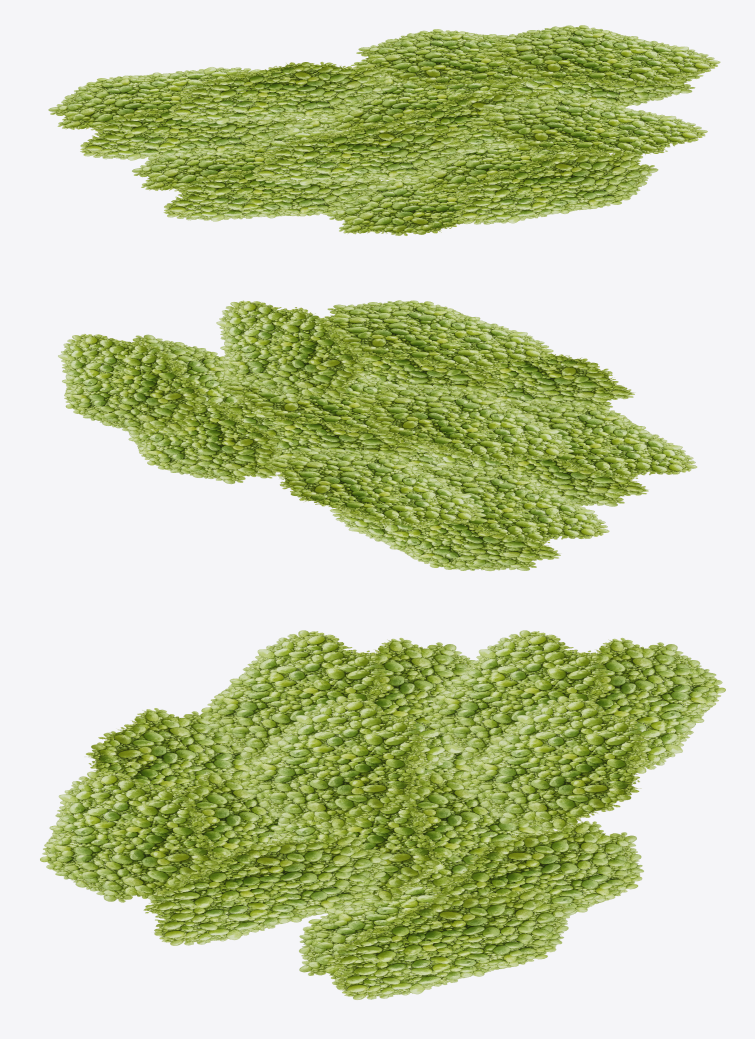
File: Lenteja_de_agua_dispersa_1.glb
3 views of the same model, one above another, from view 1: azimuth 30°, elevation 25°; view 2: azimuth 150°, elevation 25°; view 3: azimuth 270°, elevation 25° (orthographic). The views are drawn at different scales.
Visible parts, largest first — view 1: Lenteja de agua dispersa (Lemna dispersa).013; view 2: Lenteja de agua dispersa (Lemna dispersa).013; view 3: Lenteja de agua dispersa (Lemna dispersa).013.
Part boxes in pixels (<box>): Lenteja de agua dispersa (Lemna dispersa).013: <box>48,25,720,235</box>; Lenteja de agua dispersa (Lemna dispersa).013: <box>58,300,697,570</box>; Lenteja de agua dispersa (Lemna dispersa).013: <box>40,630,725,999</box>.
Size of the model in its own units: 3.15 by 0.02 by 2.4.
17 materials, 17 textured.
